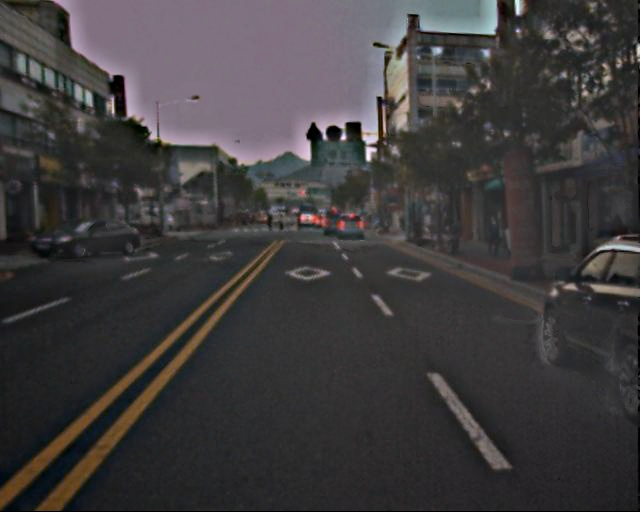person: (485, 214, 503, 259)
